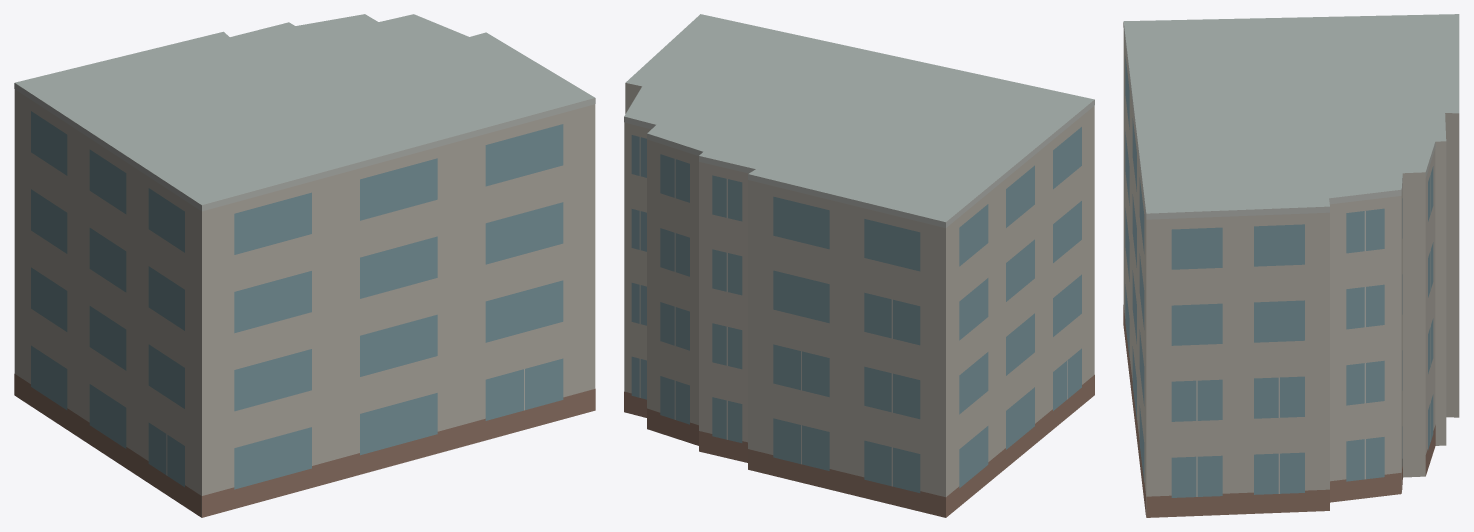
Rendered from survey-upis-32835225.glb.
The picture shows the model from 3 angles, left to right: view 1: azimuth 30°, elevation 25°; view 2: azimuth 150°, elevation 25°; view 3: azimuth 270°, elevation 25°; orthographic projection. The views are drawn at different scales.
Visible parts, largest first — view 1: survey-upis-32835225.tmp; view 2: survey-upis-32835225.tmp; view 3: survey-upis-32835225.tmp.
Boxes of the visible parts, x1,y1,x2,y2 form: survey-upis-32835225.tmp: (14, 14, 595, 517); survey-upis-32835225.tmp: (624, 14, 1094, 517); survey-upis-32835225.tmp: (1123, 14, 1459, 517).
Bounding box in the file's own units: 17.17 × 12.2 × 12.21.
